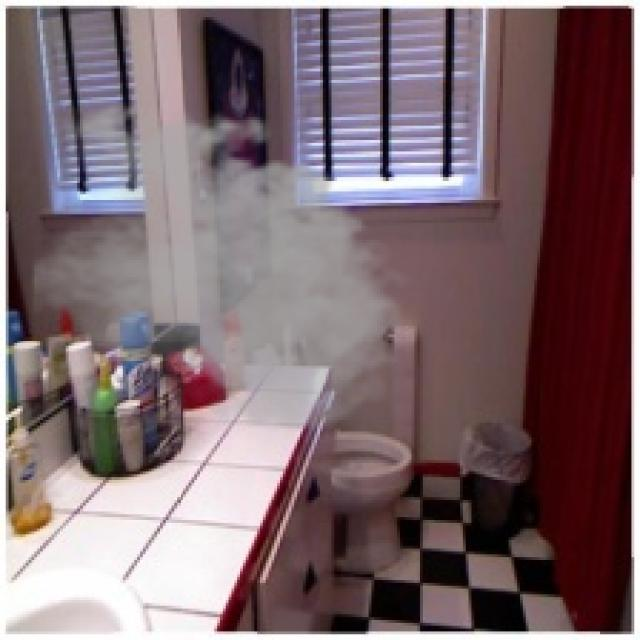smoke: (29, 91, 417, 440)
